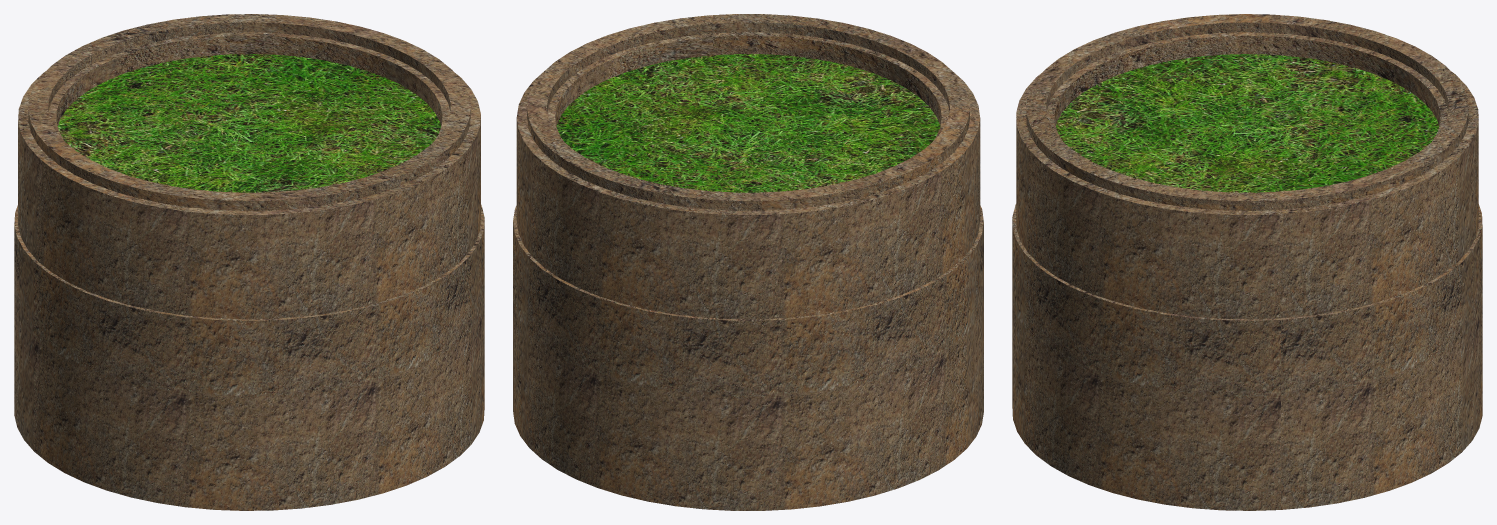
File: FlowerPot.fbx
3 views of the same model, side by side, from view 1: azimuth 30°, elevation 25°; view 2: azimuth 150°, elevation 25°; view 3: azimuth 270°, elevation 25° (orthographic).
Parts seen in each view (by area): view 1: p; view 2: p; view 3: p.
Boxes of the visible parts, x1,y1,x2,y2 form: p: [14, 14, 484, 510]; p: [513, 14, 983, 510]; p: [1012, 14, 1482, 510].
Size of the model in its own units: 7.18 by 5.12 by 7.17.
